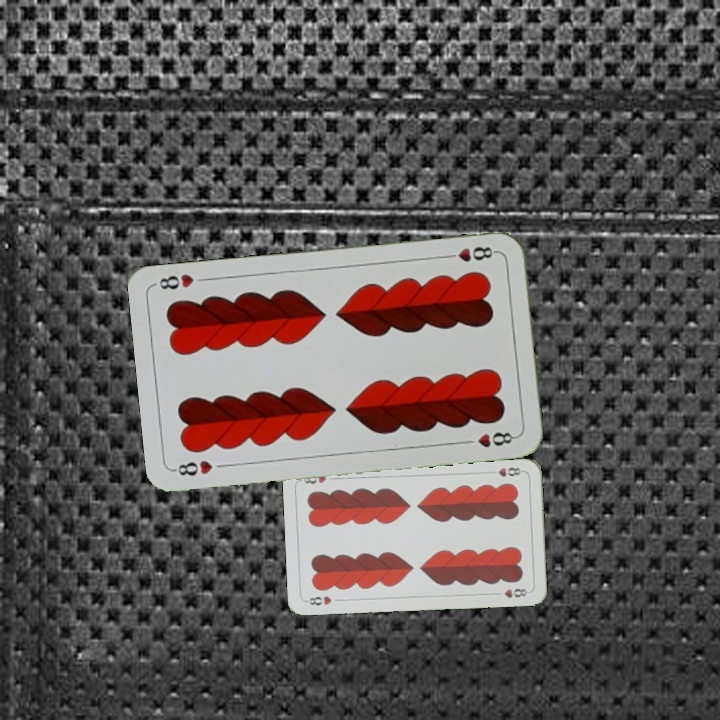H8: (441, 243, 500, 264), (170, 456, 215, 478), (485, 463, 526, 479), (302, 592, 334, 608)
